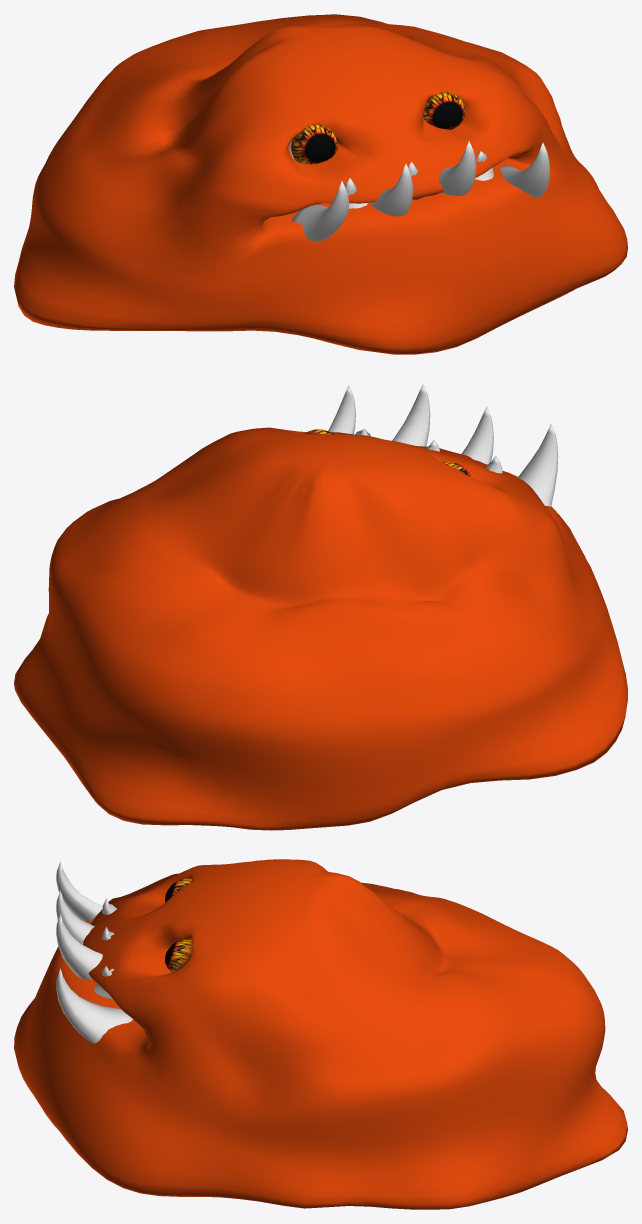
The model's file is enemy_unten3.fbx.
3 renders of one model, top to bottom at view 1: azimuth 30°, elevation 25°; view 2: azimuth 150°, elevation 25°; view 3: azimuth 270°, elevation 25°, orthographic. The views are drawn at different scales.
Visible parts, largest first — view 1: pSphere7; view 2: pSphere7; view 3: pSphere7.
Boxes of the visible parts, x1,y1,x2,y2 form: pSphere7: [14, 14, 627, 354]; pSphere7: [14, 384, 627, 830]; pSphere7: [14, 859, 627, 1209].
Size of the model in its own units: 4.11 by 1.8 by 4.07.
